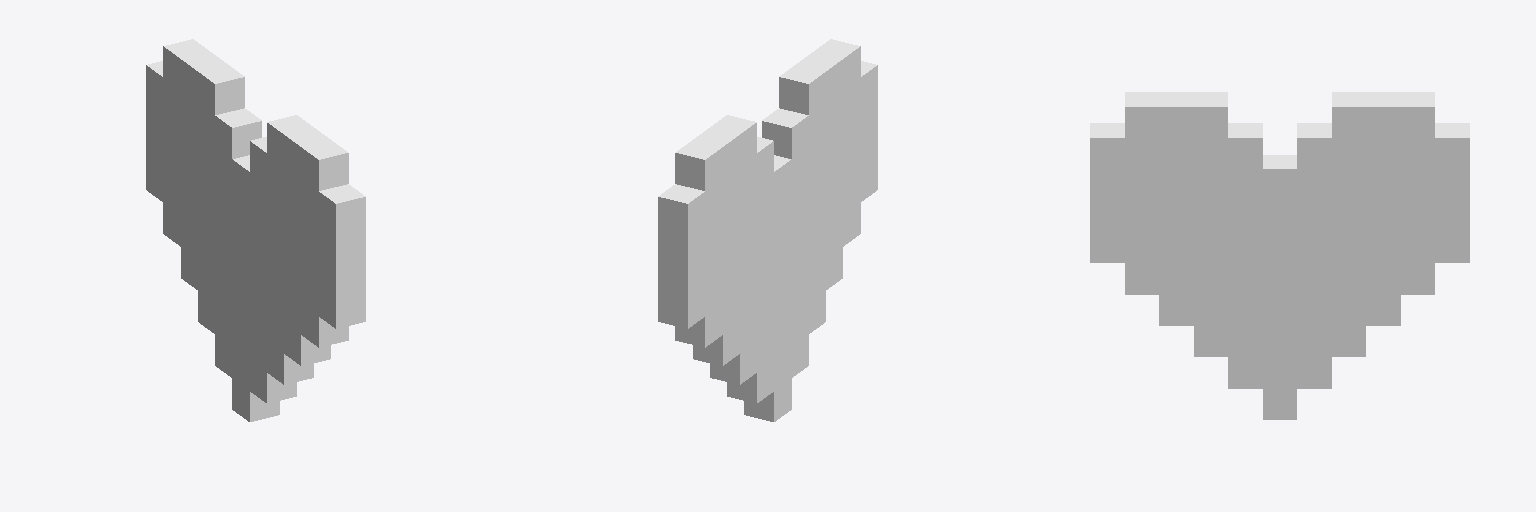
File: HearthGoldFull.obj
The picture shows the model from 3 angles: view 1: azimuth 30°, elevation 25°; view 2: azimuth 150°, elevation 25°; view 3: azimuth 270°, elevation 25°; orthographic projection.
Visible parts, largest first — view 1: object 1; view 2: object 1; view 3: object 1.
Part boxes in pixels (bbox=[...]): object 1: bbox=[146, 39, 365, 421]; object 1: bbox=[658, 39, 877, 421]; object 1: bbox=[1090, 92, 1469, 419].
Bounding box in the file's own units: 0.1 × 1 × 1.1.